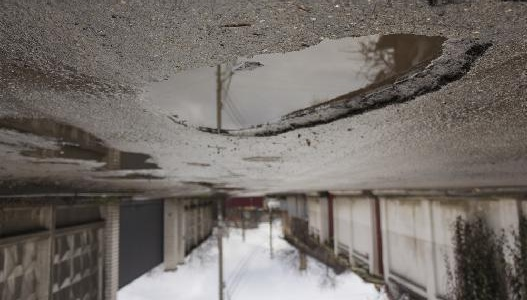pothole: (137, 31, 490, 141)
